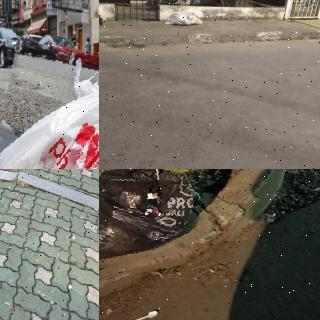Garbage: (0, 46, 99, 169), (99, 169, 203, 278), (160, 10, 207, 27), (99, 8, 106, 26)
